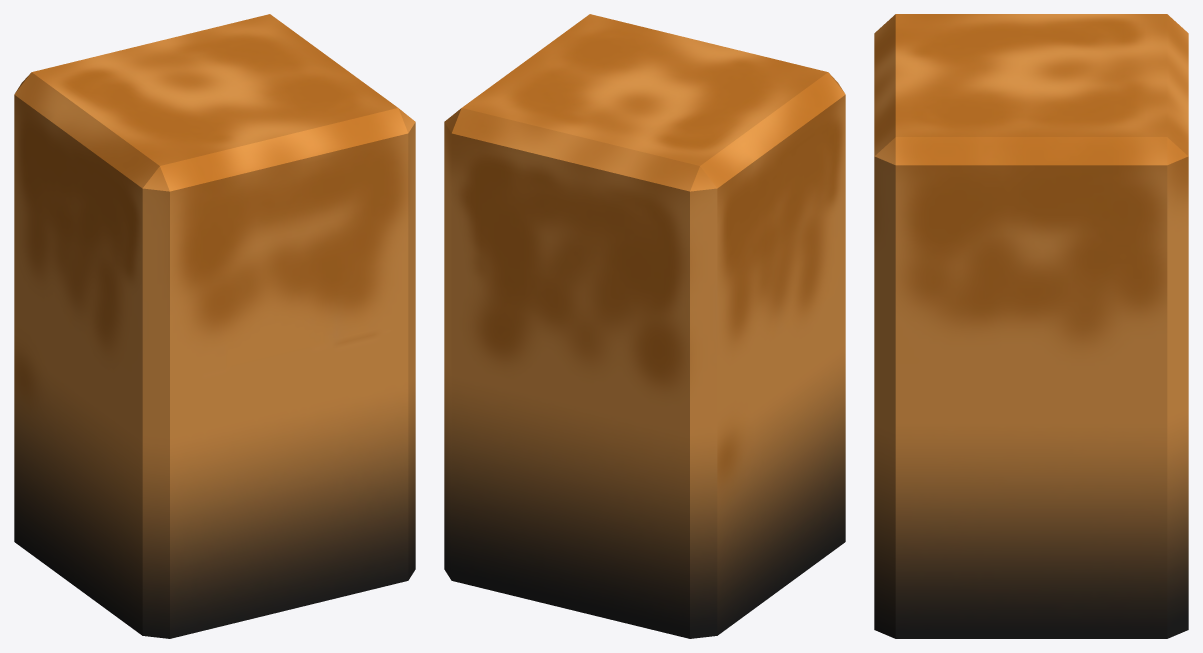
The model's file is alto.FBX.
3 renders of one model, left to right at view 1: azimuth 30°, elevation 25°; view 2: azimuth 150°, elevation 25°; view 3: azimuth 270°, elevation 25°, orthographic. The views are drawn at different scales.
Visible parts, largest first — view 1: alto; view 2: alto; view 3: alto.
Boxes of the visible parts, x1,y1,x2,y2 form: alto: (14, 14, 415, 638); alto: (444, 14, 845, 638); alto: (874, 14, 1188, 638).
Size of the model in its own units: 47.16 by 76.8 by 44.35.
